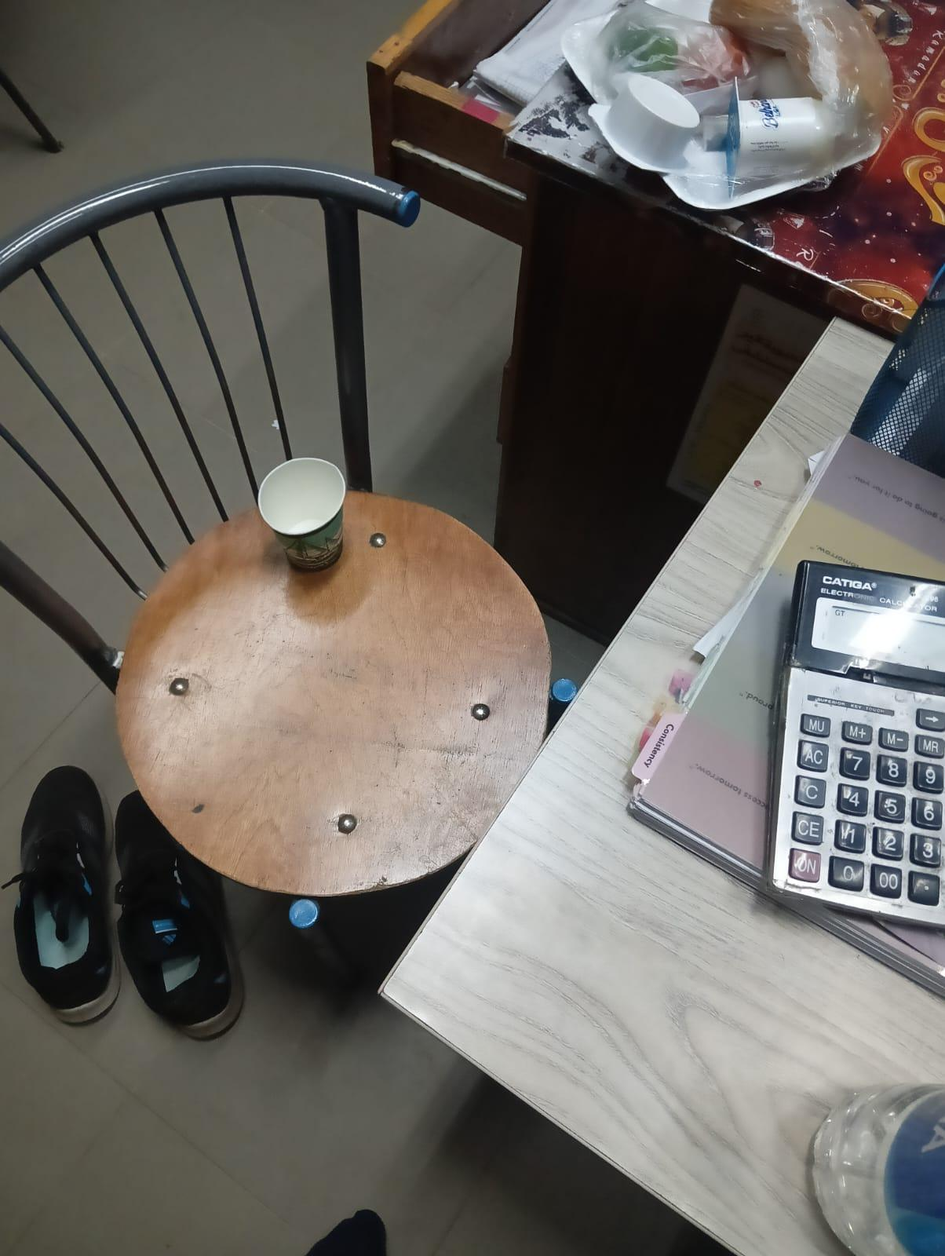cup: (589, 72, 699, 172), (257, 458, 345, 569)
